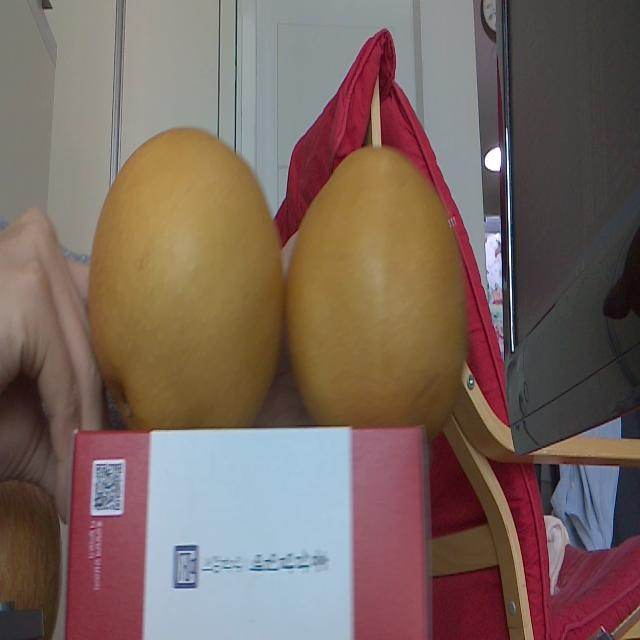pear: (85, 119, 282, 426), (282, 137, 470, 426)
